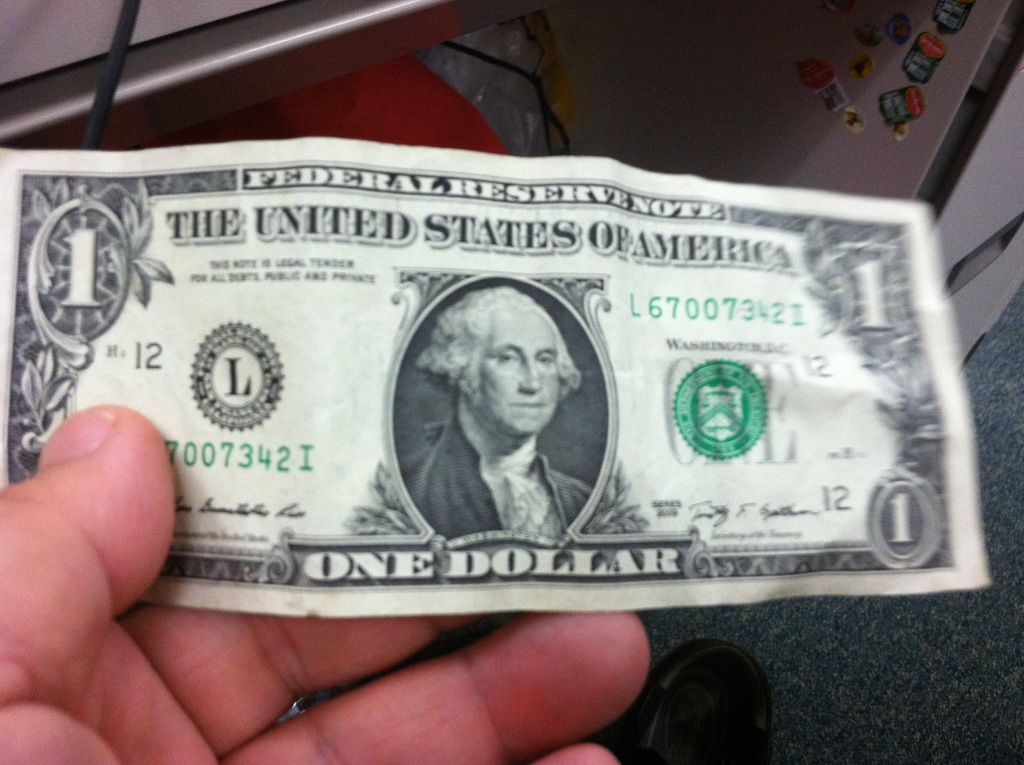Person: (0, 403, 650, 765), (399, 284, 593, 541)
